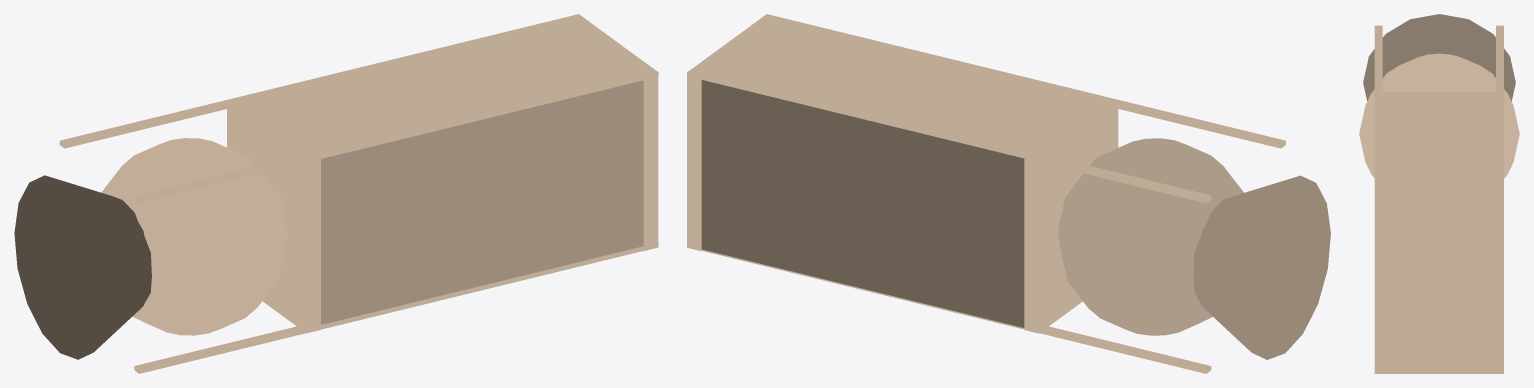
Rendered from box-ship.dae.
3 views of the same model, side by side, from view 1: azimuth 30°, elevation 25°; view 2: azimuth 150°, elevation 25°; view 3: azimuth 270°, elevation 25° (orthographic). The views are drawn at different scales.
Visible parts, largest first — view 1: starboard_wall-0, fuel_cell-0, ceiling-0, engine-0, cabin_engine_rib-0, top_starboard_beam-0, top_port_beam-0, bottom_starboard_beam-0, castle-0; view 2: port_wall-0, fuel_cell-0, ceiling-0, engine-0, cabin_engine_rib-0, top_port_beam-0, top_starboard_beam-0, castle-0, bottom_port_beam-0; view 3: castle-0, ceiling-0, engine-0, fuel_cell-0, top_starboard_beam-0, top_port_beam-0, cabin_engine_rib-0, bottom_starboard_beam-0.
Part boxes in pixels (left/top/right/bottom): starboard_wall-0: left=321, top=80, right=643, bottom=324; fuel_cell-0: left=101, top=138, right=287, bottom=335; ceiling-0: left=247, top=20, right=643, bottom=150; engine-0: left=14, top=175, right=151, bottom=359; cabin_engine_rib-0: left=227, top=100, right=320, bottom=333; top_starboard_beam-0: left=134, top=68, right=658, bottom=203; top_port_beam-0: left=59, top=14, right=583, bottom=148; bottom_starboard_beam-0: left=134, top=242, right=658, bottom=373; castle-0: left=575, top=17, right=658, bottom=250; port_wall-0: left=701, top=80, right=1024, bottom=327; fuel_cell-0: left=1058, top=138, right=1243, bottom=335; ceiling-0: left=702, top=20, right=1098, bottom=150; engine-0: left=1193, top=175, right=1330, bottom=359; cabin_engine_rib-0: left=1024, top=100, right=1118, bottom=333; top_port_beam-0: left=687, top=69, right=1211, bottom=203; top_starboard_beam-0: left=762, top=14, right=1285, bottom=148; castle-0: left=687, top=17, right=774, bottom=251; bottom_port_beam-0: left=701, top=249, right=1211, bottom=373; castle-0: left=1375, top=228, right=1503, bottom=373; ceiling-0: left=1382, top=97, right=1495, bottom=227; engine-0: left=1363, top=14, right=1515, bottom=101; fuel_cell-0: left=1359, top=53, right=1519, bottom=178; top_starboard_beam-0: left=1374, top=25, right=1382, bottom=234; top_port_beam-0: left=1496, top=25, right=1503, bottom=234; cabin_engine_rib-0: left=1382, top=92, right=1495, bottom=97; bottom_starboard_beam-0: left=1374, top=235, right=1382, bottom=373.
Size of the model in its own units: 6.85 by 2.1 by 2.1.
